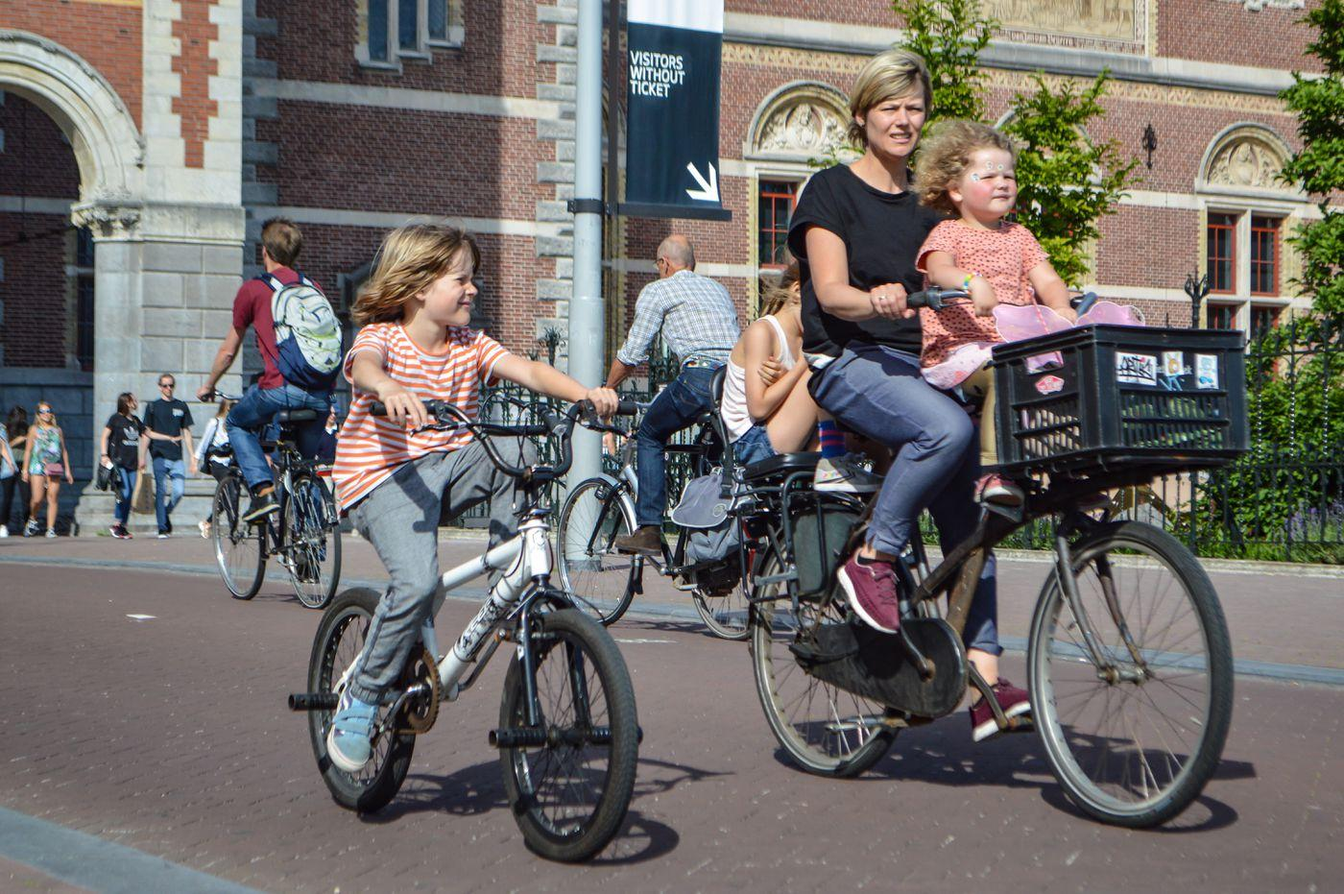nohelmet: (377, 220, 486, 343), (847, 47, 934, 170), (925, 123, 1021, 227), (256, 217, 305, 274), (653, 230, 699, 286), (157, 371, 176, 401), (116, 391, 139, 414), (35, 400, 55, 426)
